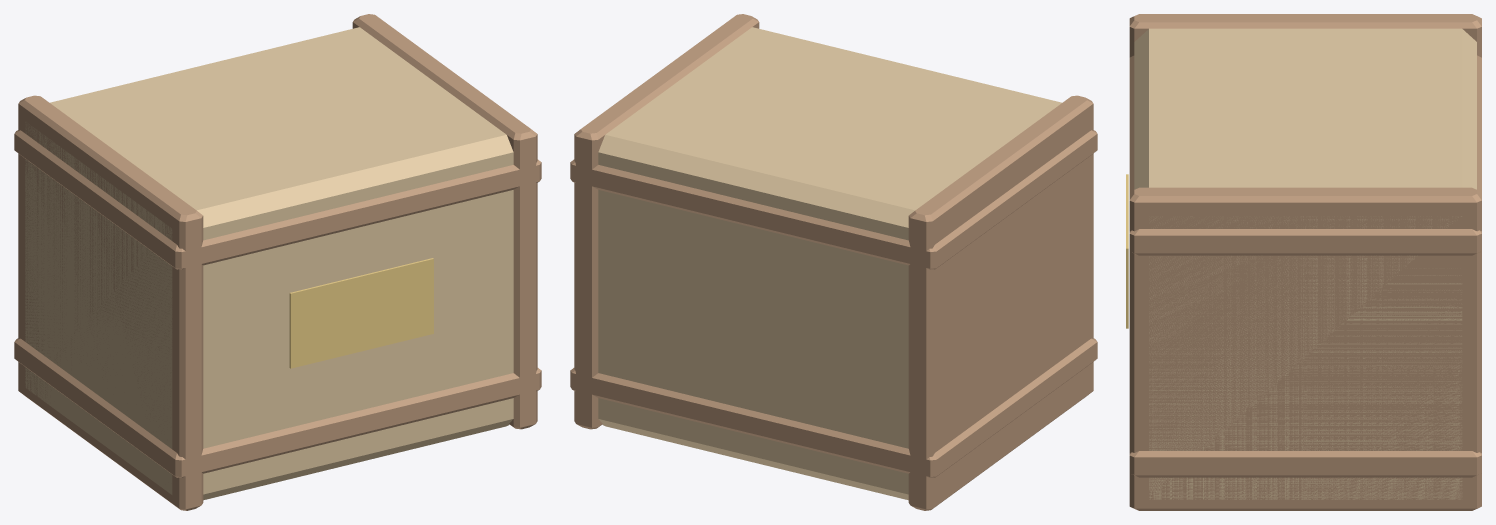
Rendered from lab_crate.glb.
3 renders of one model, left to right at view 1: azimuth 30°, elevation 25°; view 2: azimuth 150°, elevation 25°; view 3: azimuth 270°, elevation 25°, orthographic. The views are drawn at different scales.
Parts seen in each view (by area): view 1: lab_crate; view 2: lab_crate; view 3: lab_crate.
Part boxes in pixels (left/top/right/bottom): lab_crate: left=14, top=14, right=541, bottom=510; lab_crate: left=570, top=14, right=1097, bottom=510; lab_crate: left=1126, top=14, right=1481, bottom=510.
Bounding box in the file's own units: 0.92 × 0.71 × 0.727.
